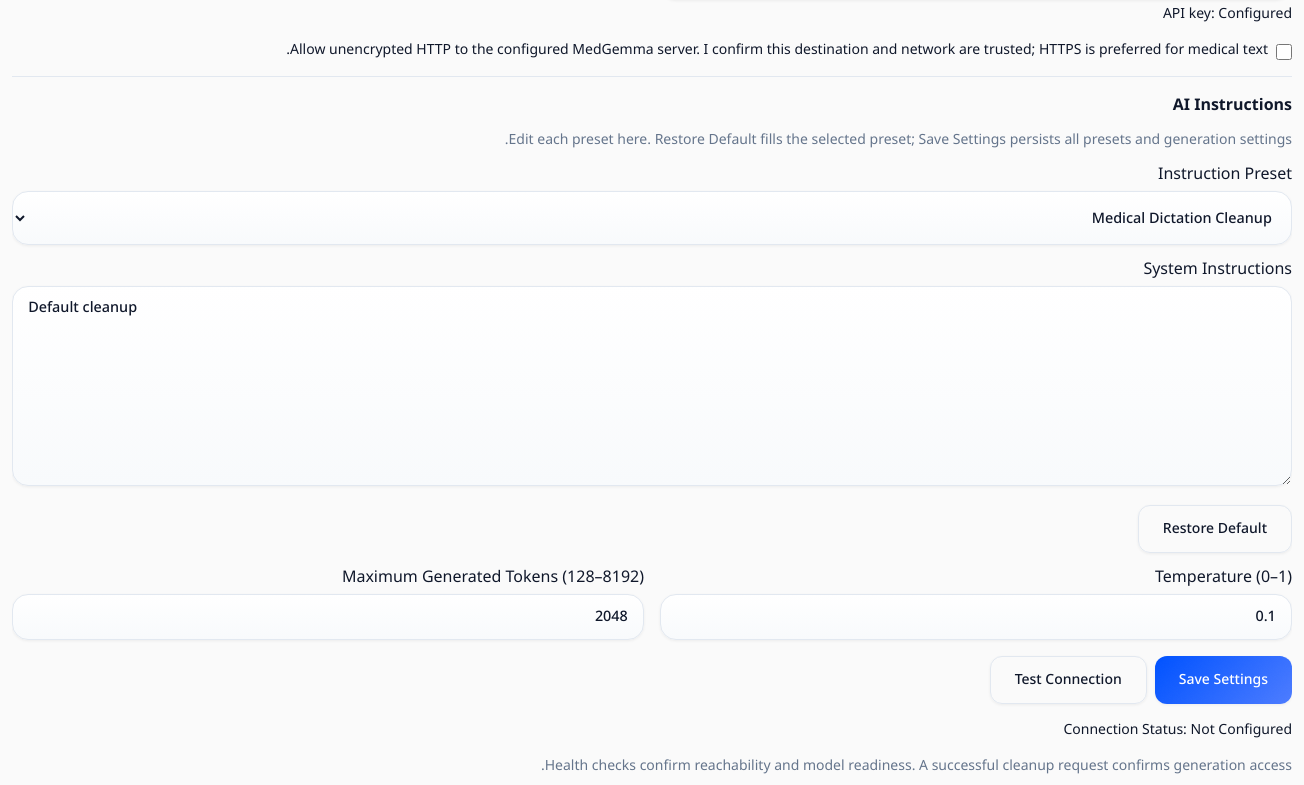
Test case: edits all presets, retains edits while switching, restores one default and saves generation controls
(page scrolled)
Expected: the dropdown labelled "Instruction Preset" is shown, [12,191,1292,245]
Replace the text in the text box labelled "System Instructions" with "Custom cleanup instructions". click: (652, 386)
box: [12,286,1292,486]
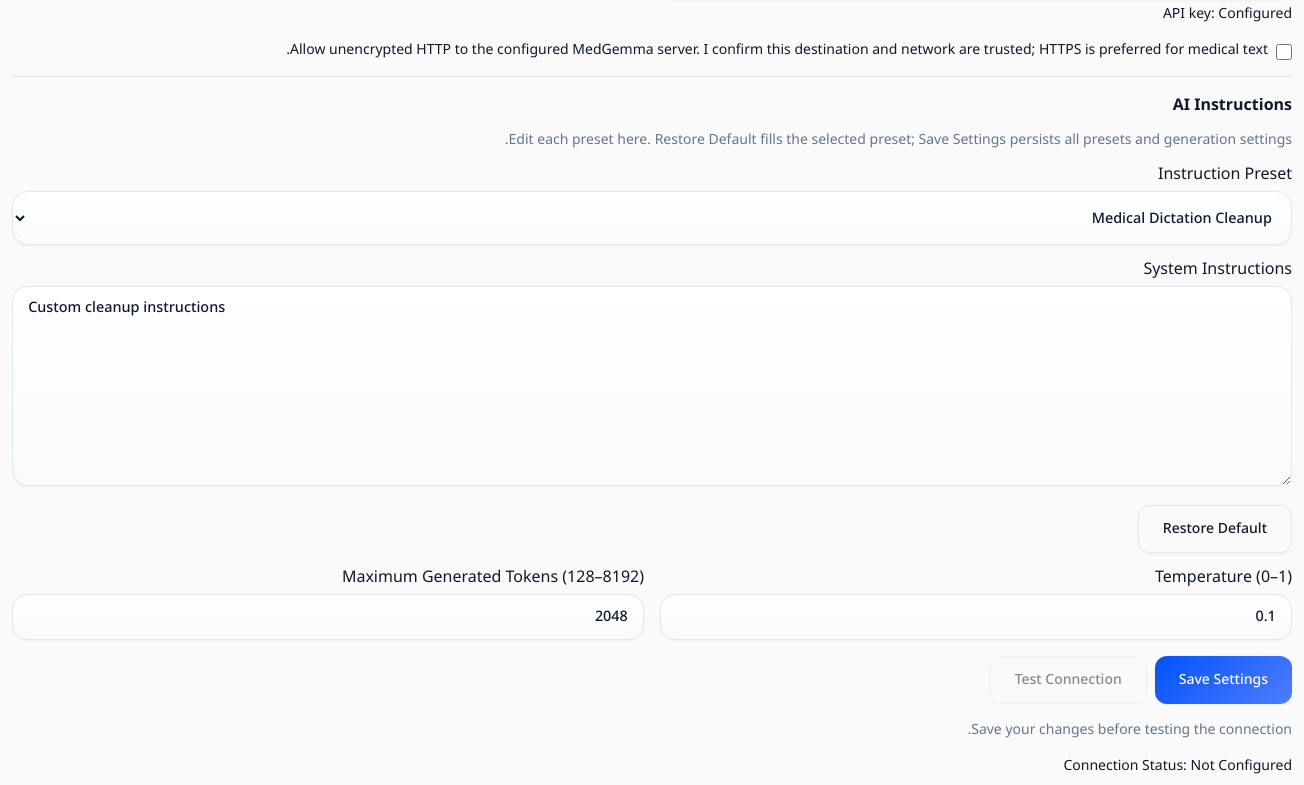
Select "Medical Terminology Correction" in the dropdown labelled "Instruction Preset". click: (652, 218)
box: [12,191,1292,245]
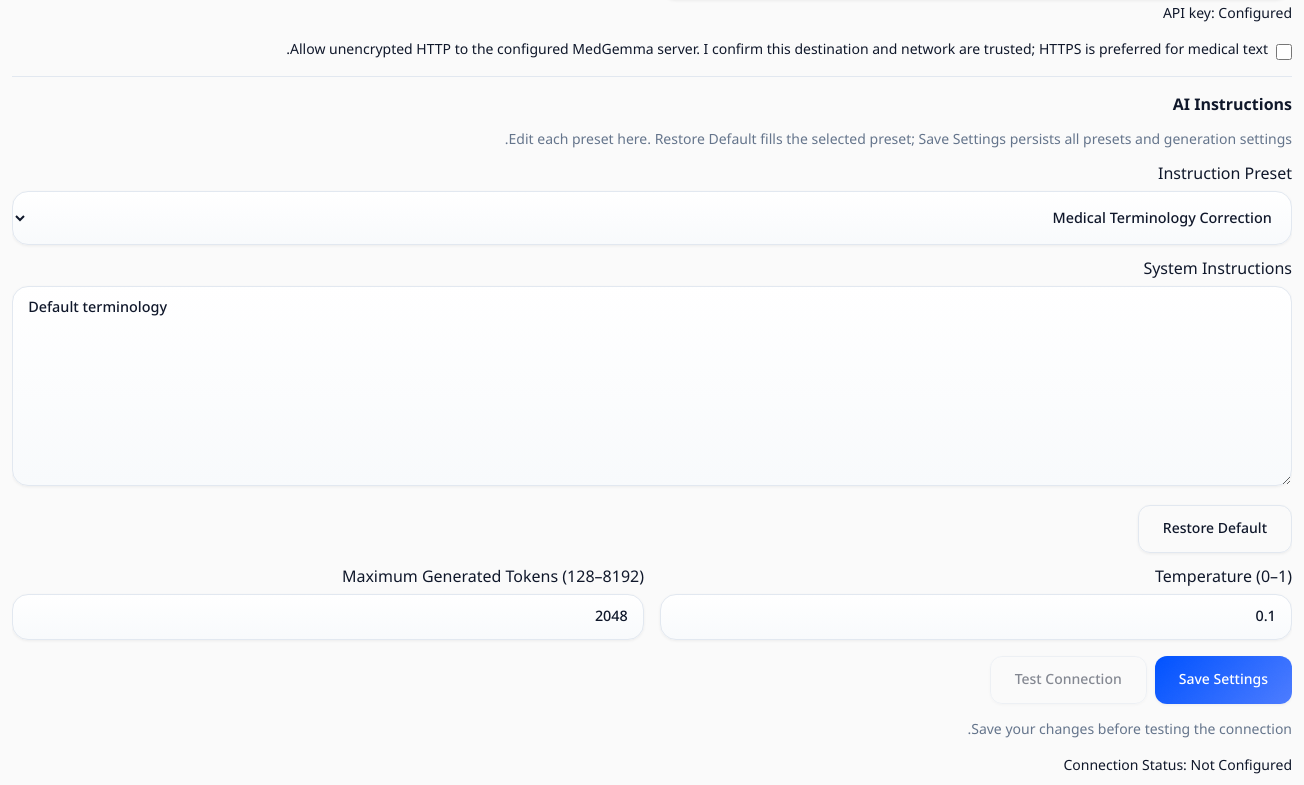
Replace the text in the text box labelled "System Instructions" with "Custom terminology instructions". click: (652, 386)
box: [12,286,1292,486]
Select "Medical Dictation Cleanup" in the dropdown labelled "Instruction Preset". click: (652, 218)
box: [12,191,1292,245]
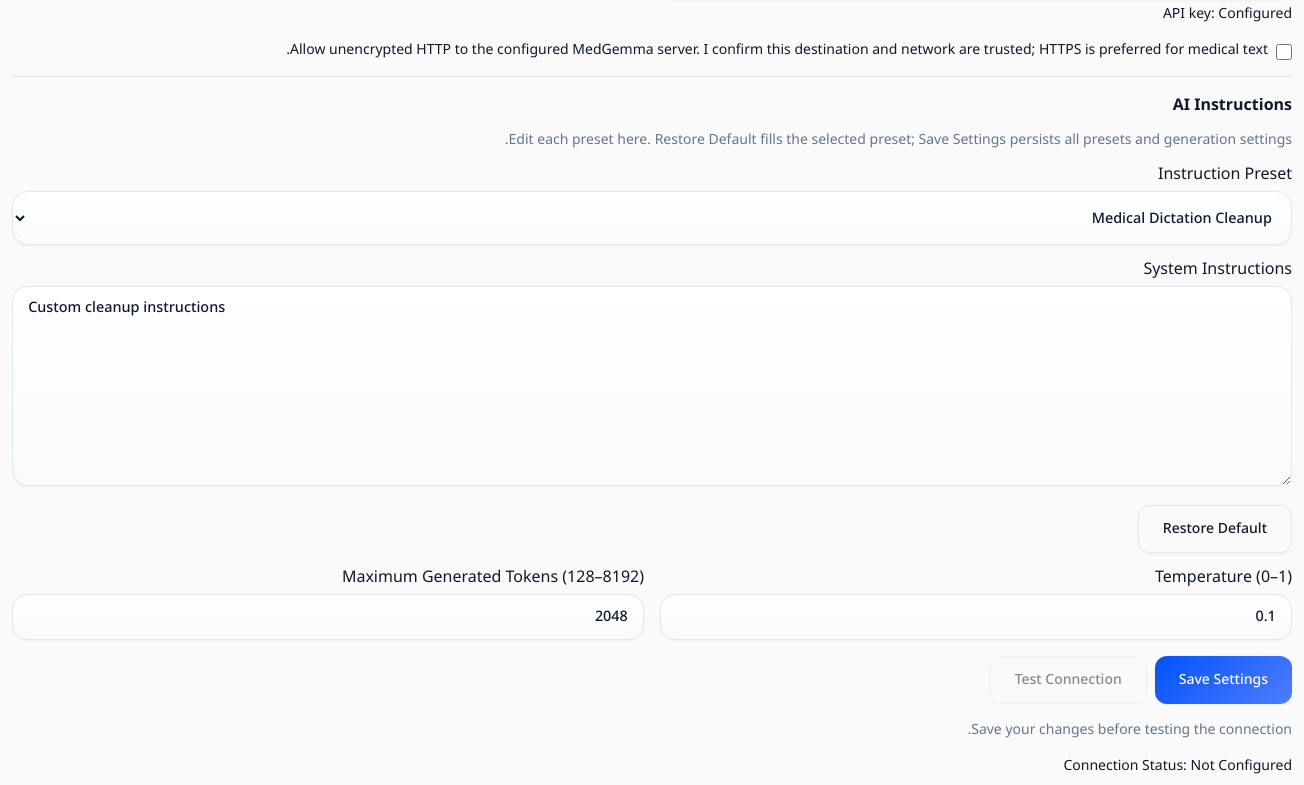
Click the button "Restore Default". click: (1215, 529)
box: [1138,505,1292,553]
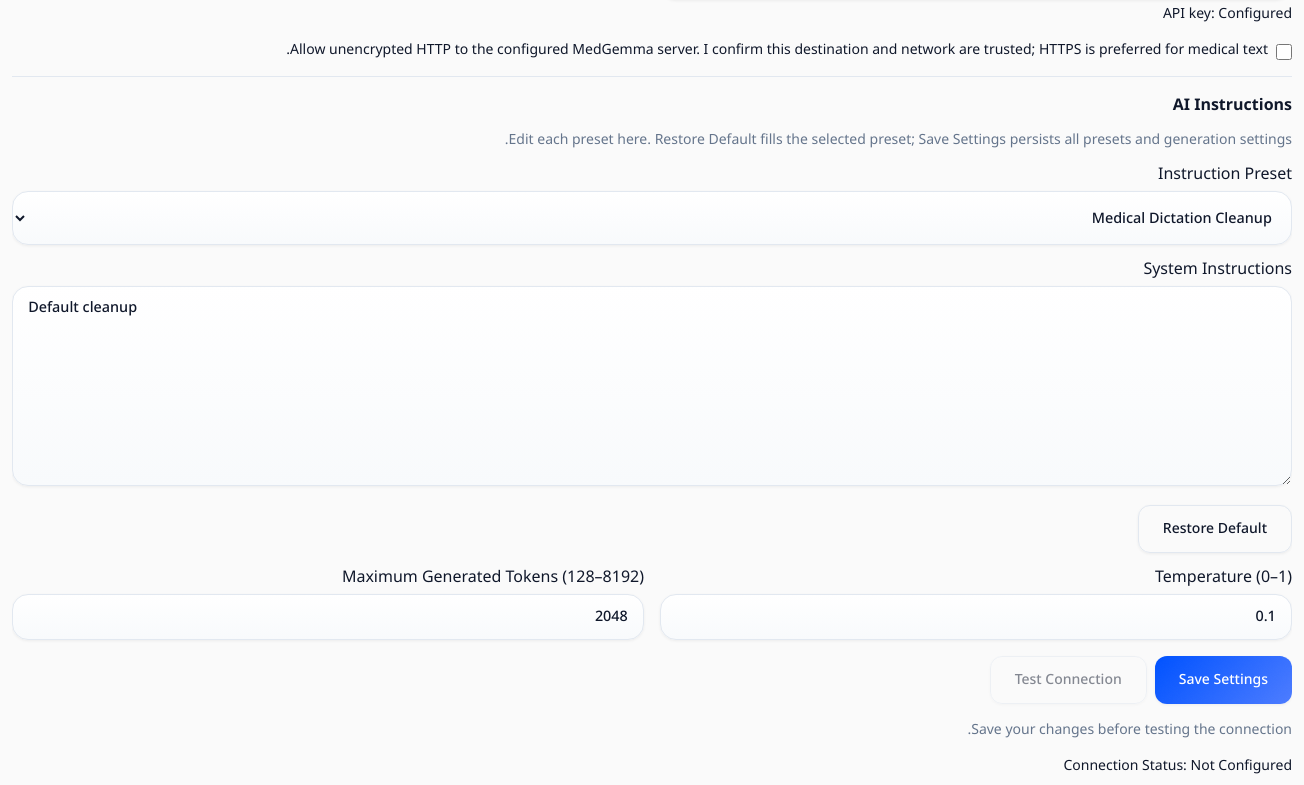
Expected: the text box labelled "System Instructions" holds "Default cleanup", [12,286,1292,486]
Replace the text in the number field labelled "Temperature (0–1)" with "0.2". click: (976, 617)
box: [660,594,1292,640]
Replace the text in the number field labelled "Maximum Generated Tokens (128–8192)" with "1024". click: (328, 617)
box: [12,594,644,640]
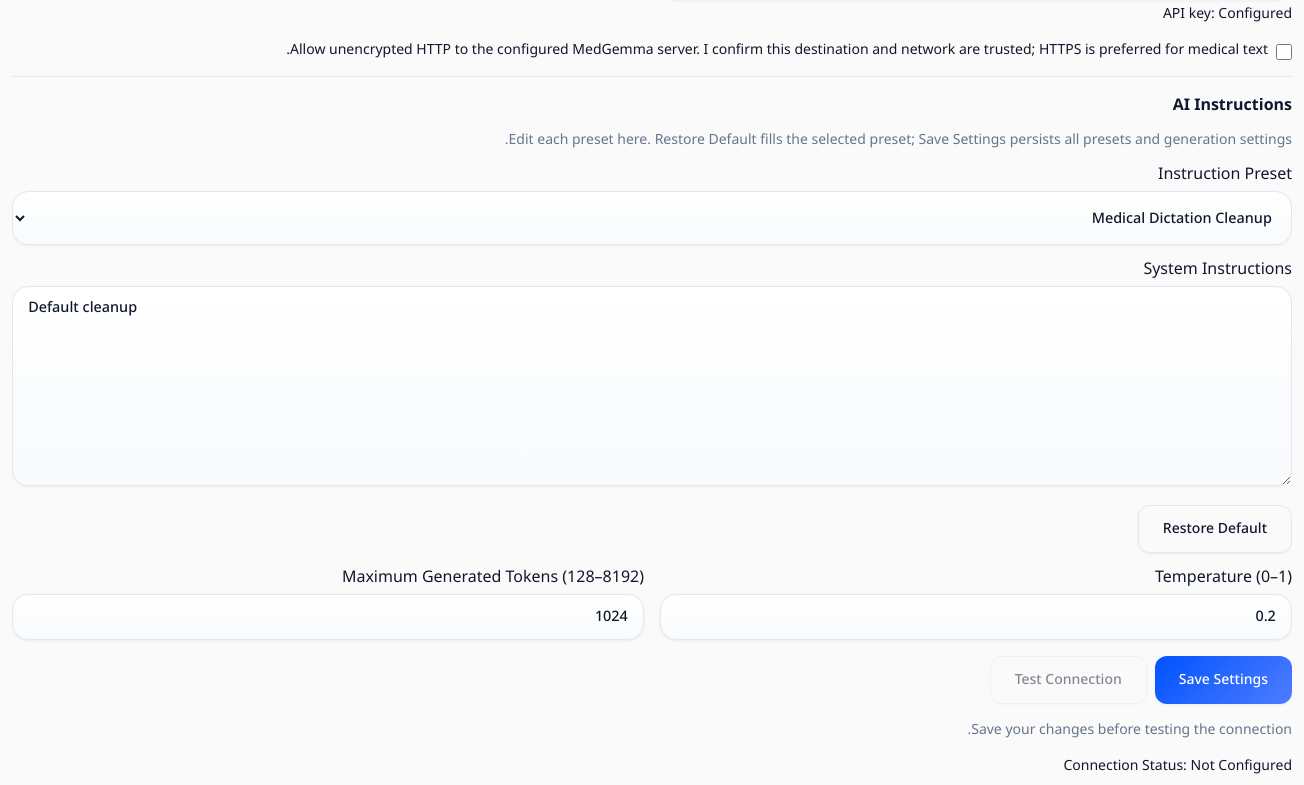
Click the button "Save Settings". click: (1223, 680)
box: [1155,656,1292,704]
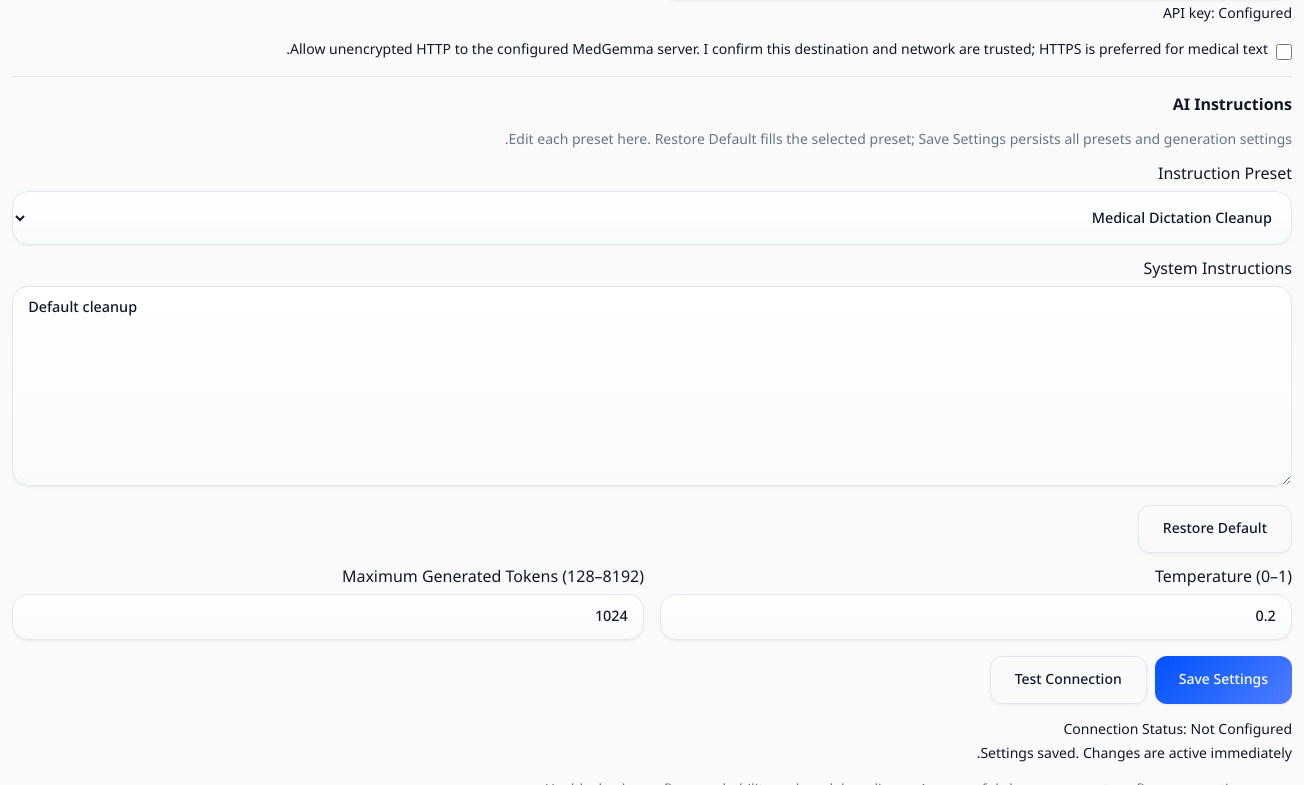
Expected: the text "Settings saved. Changes are active immediately." is shown, [977,739,1292,768]
